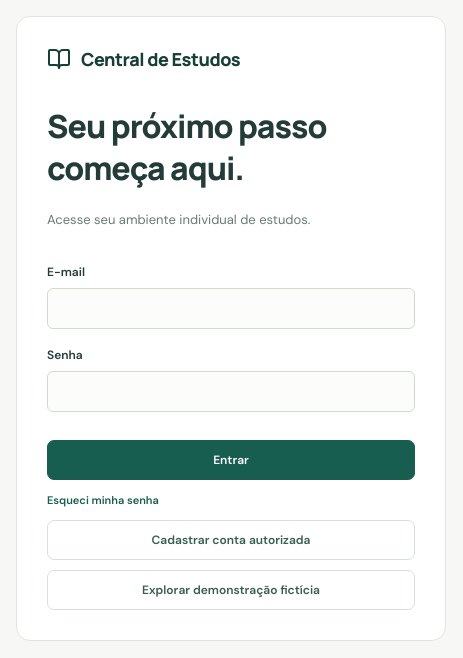
Test: envia recuperação com redirect local e mensagem sem revelar existência de conta
Check: the button "Entrar" is shown, box [47, 440, 415, 480]
Click the button "Esqueci minha senha".
click(103, 500)  # box [47, 490, 415, 510]
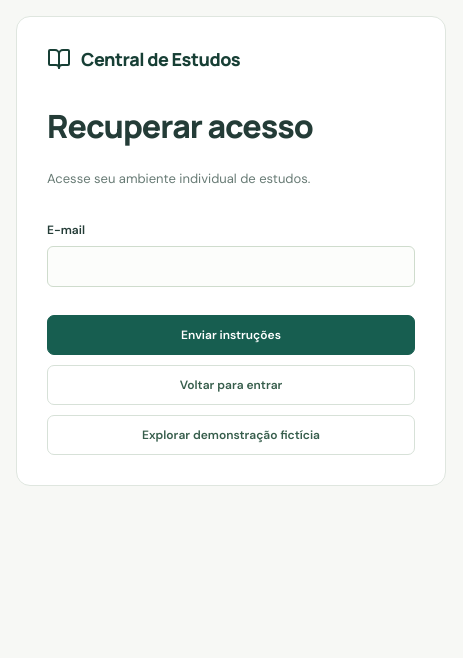
Type "someone@example.test" into the field labelled "E-mail".
click(231, 266); type("someone@example.test")  # box [47, 246, 415, 287]
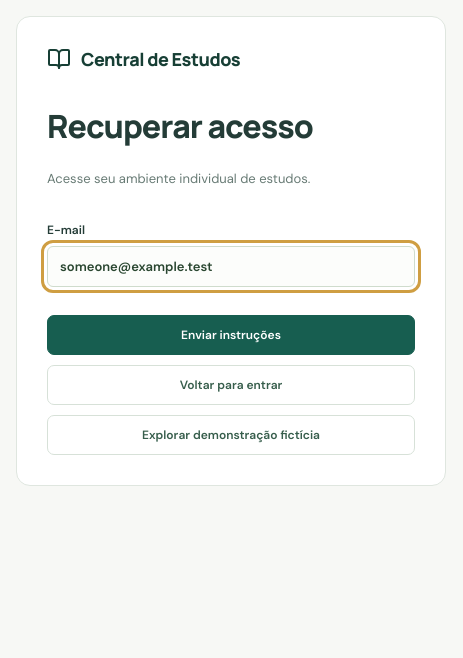
Click the button "Enviar instruções".
click(231, 335)  # box [47, 315, 415, 355]
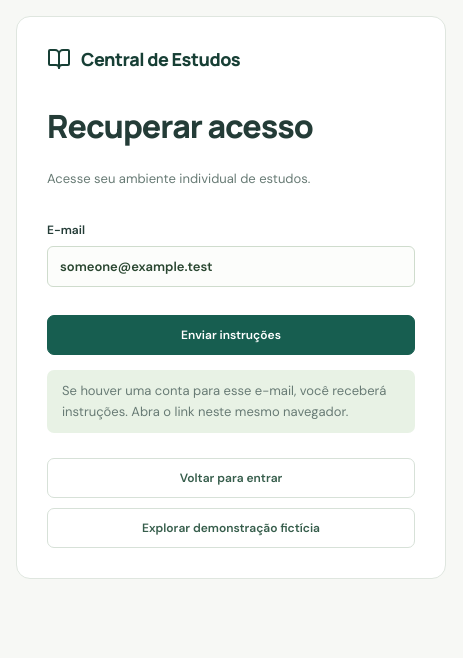
Check: the text "Se houver uma conta" is shown, box [62, 382, 386, 420]
